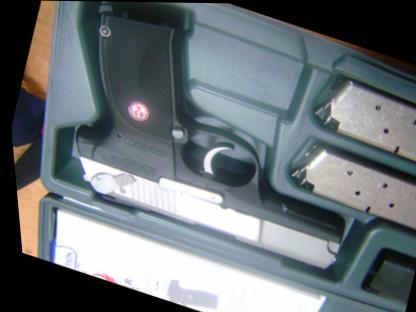pistol: (38, 0, 390, 280)
